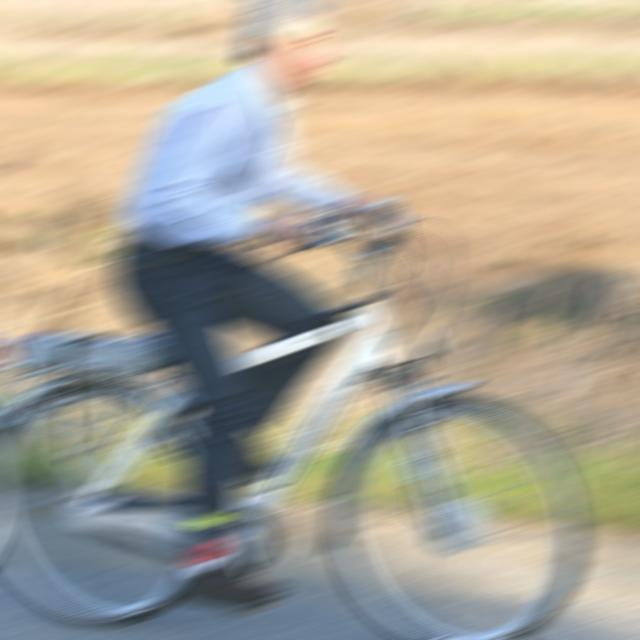Without Helmet: (237, 2, 336, 83)
